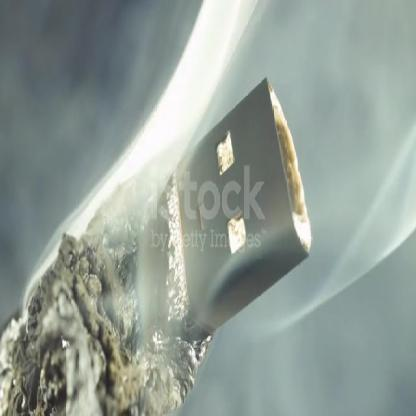smoke: (23, 3, 415, 356)
